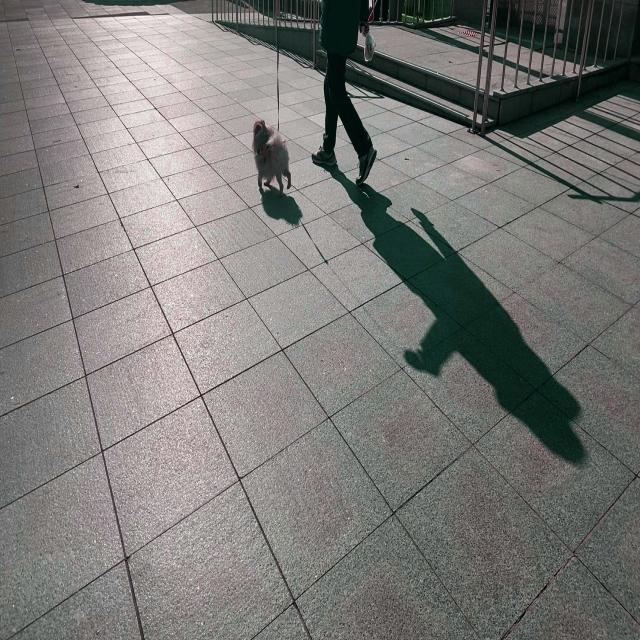Leashed_Dog: (251, 0, 348, 198)
